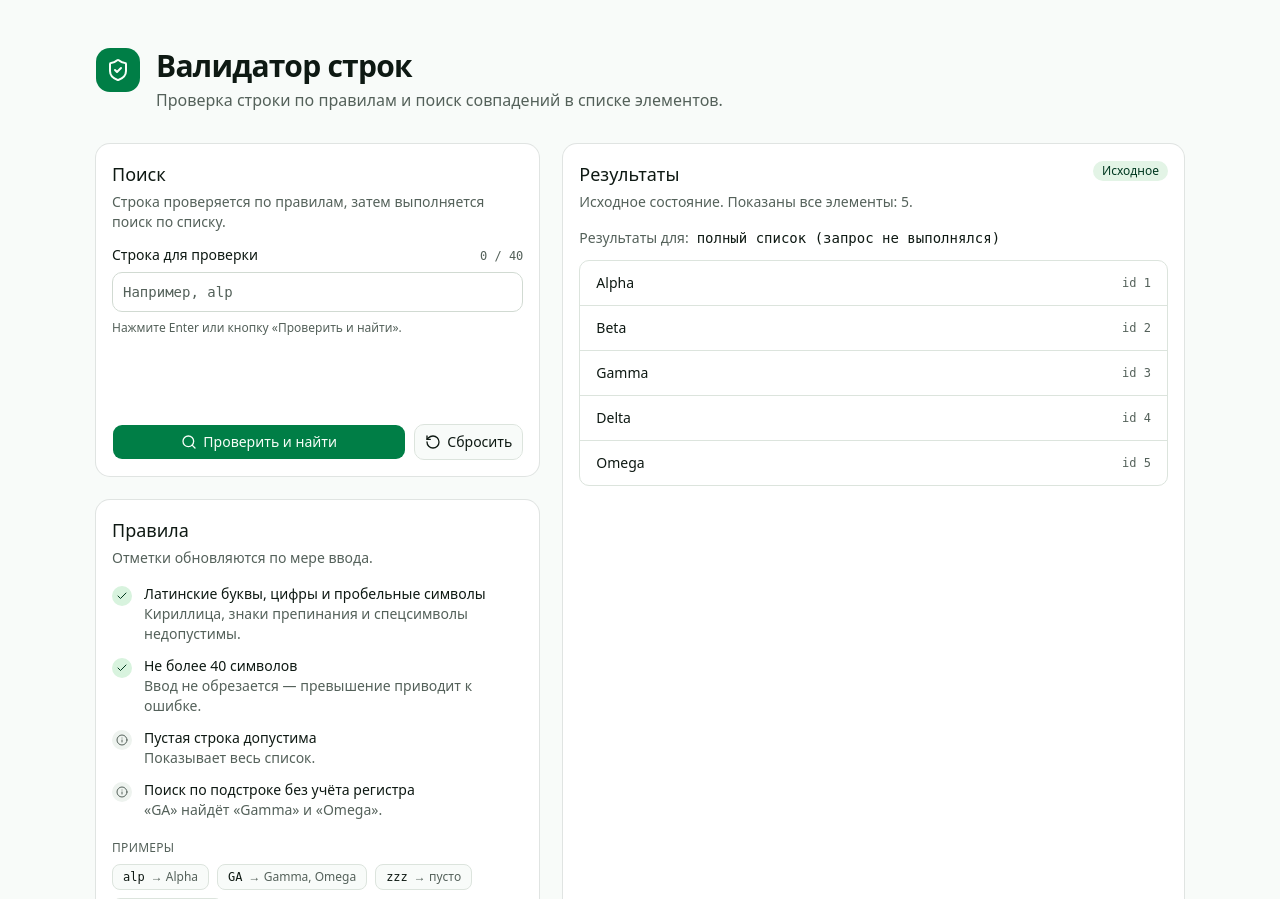
it: Подменённые ответы сервера и состояния › shows a recoverable error on a network failure
Type "alp" into the field labelled "Строка для проверки" at (318, 292), box [112,272,523,312]
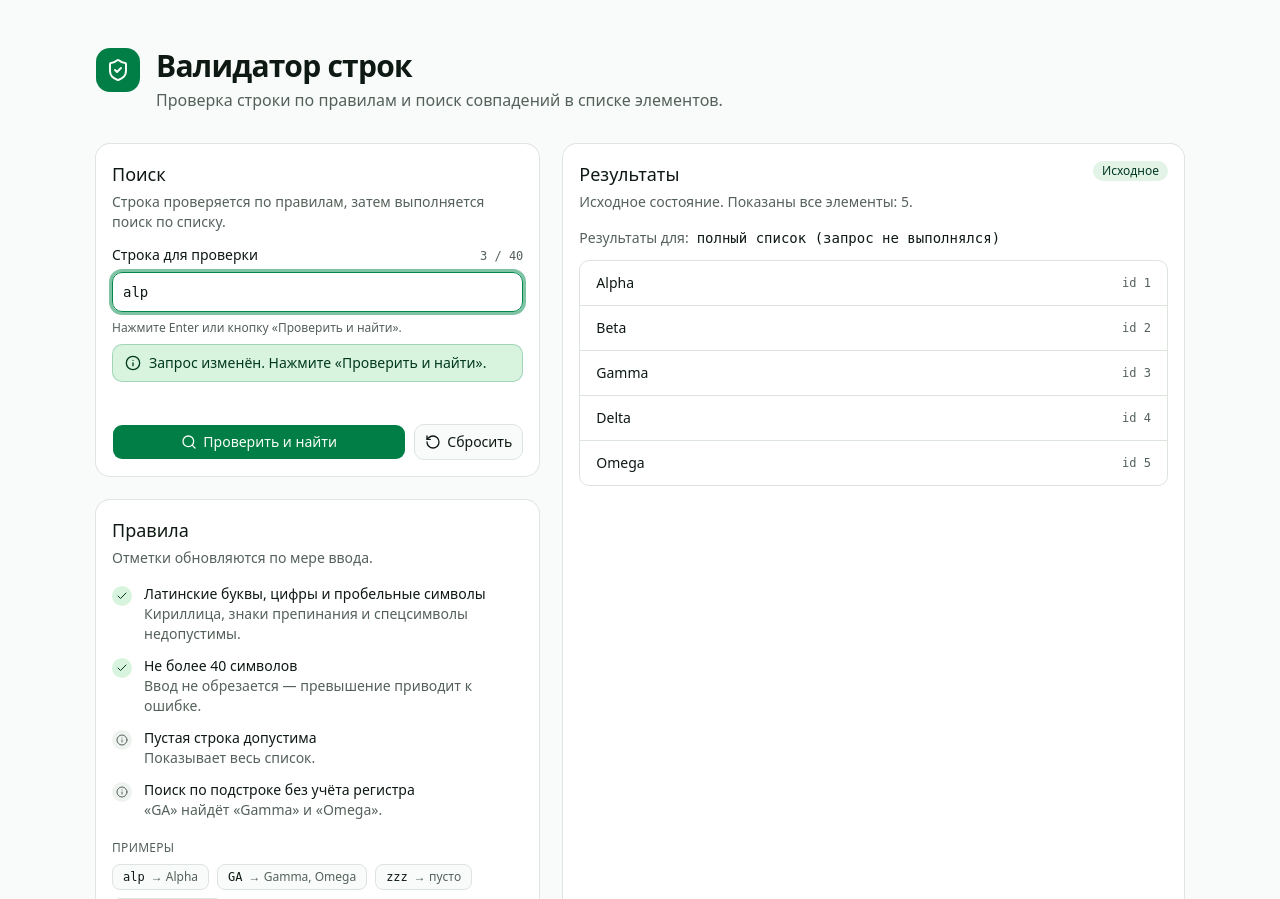
Click the button "Проверить и найти" at (259, 442), box [112,424,406,460]
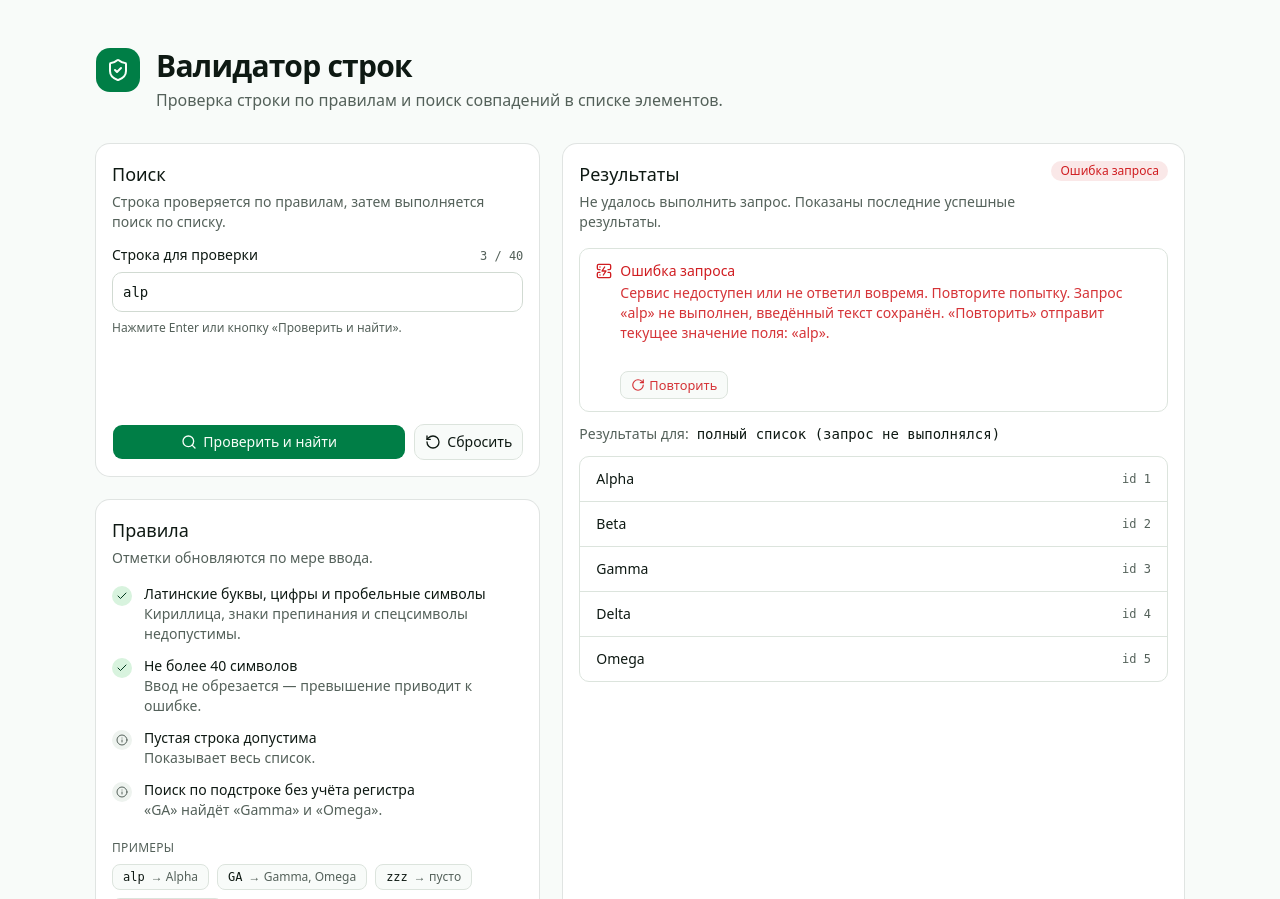
Now the text "Сервис недоступен или не ответил вовремя" is shown, box [620,283,1070,302]
Now the button "Повторить" is enabled, box [620,371,728,399]
